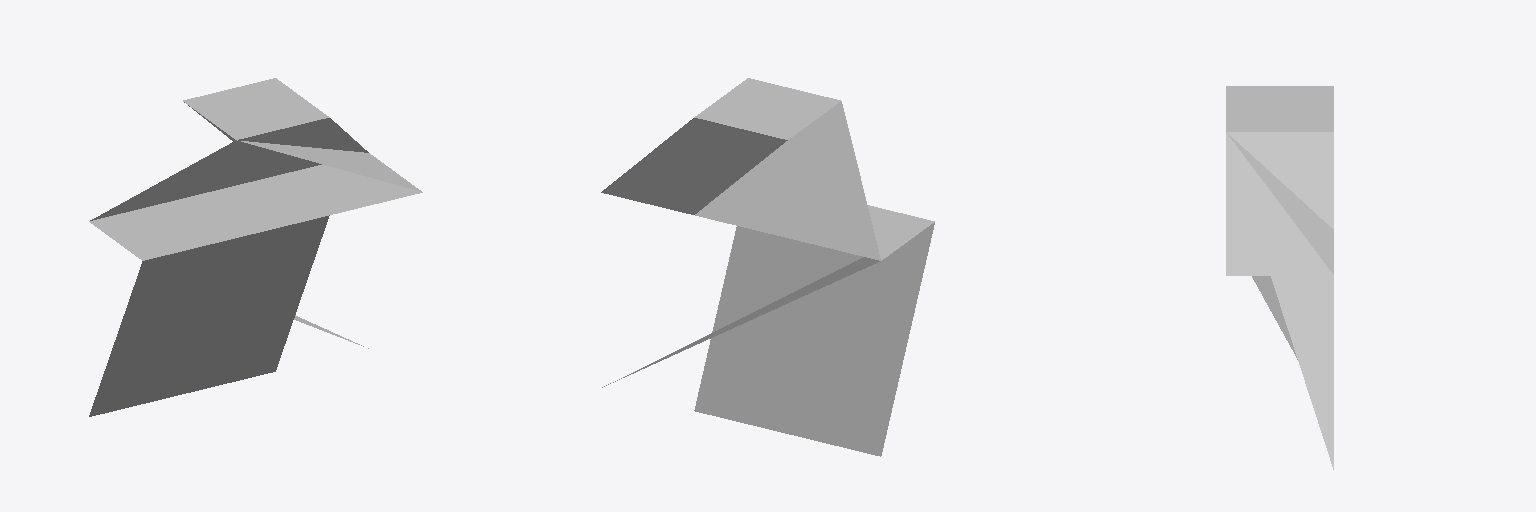
File: Sleep Pod Victim 3 Blood.obj
3 views of the same model, side by side, from view 1: azimuth 30°, elevation 25°; view 2: azimuth 150°, elevation 25°; view 3: azimuth 270°, elevation 25° (orthographic).
Size of the model in its own units: 3 by 3 by 1.